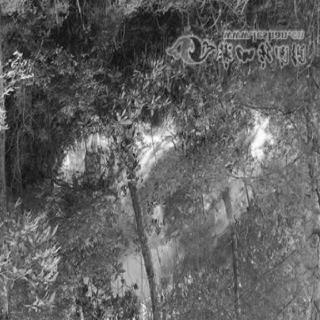Fire: (51, 115, 177, 232), (186, 109, 278, 249)
